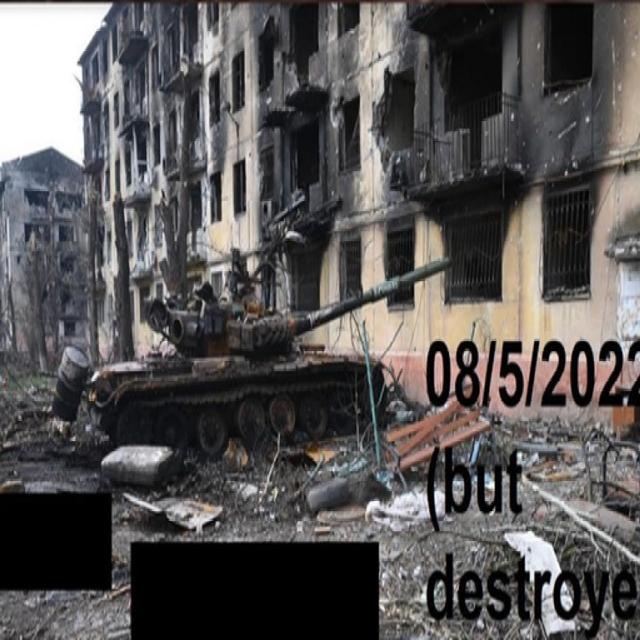TANK: (86, 242, 454, 467)
